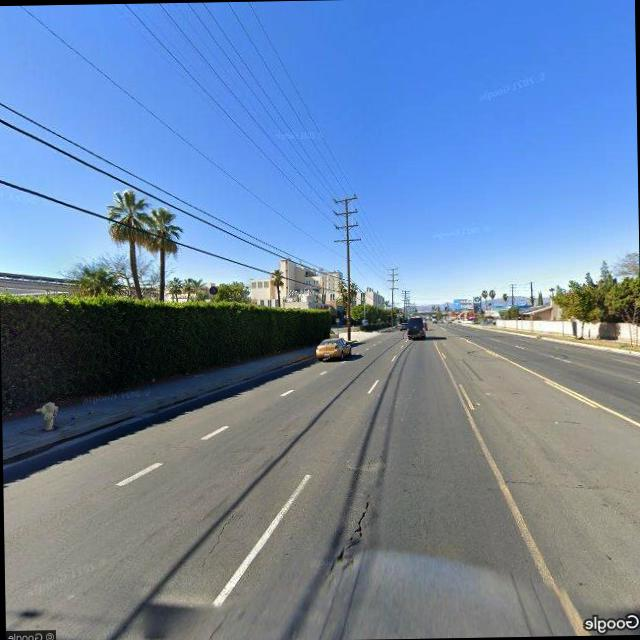pothole: (322, 481, 380, 580), (197, 496, 245, 564)
